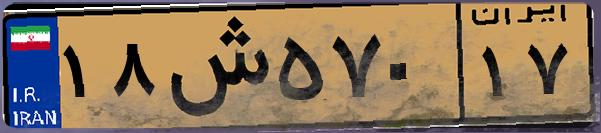0: (385, 28, 445, 110)
1: (57, 26, 110, 100), (475, 38, 525, 113)
5: (270, 28, 330, 110)
7: (330, 28, 385, 110), (525, 38, 570, 115)
8: (110, 28, 158, 98)
ش: (158, 12, 270, 120)
